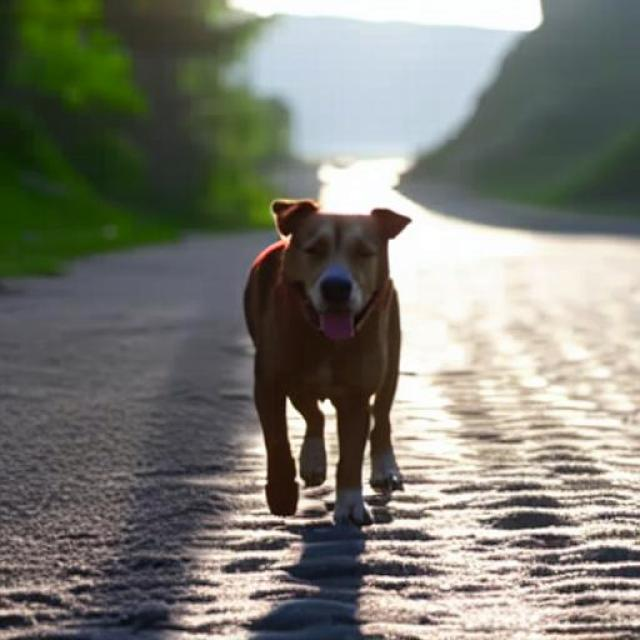Dog: (243, 198, 412, 529)
